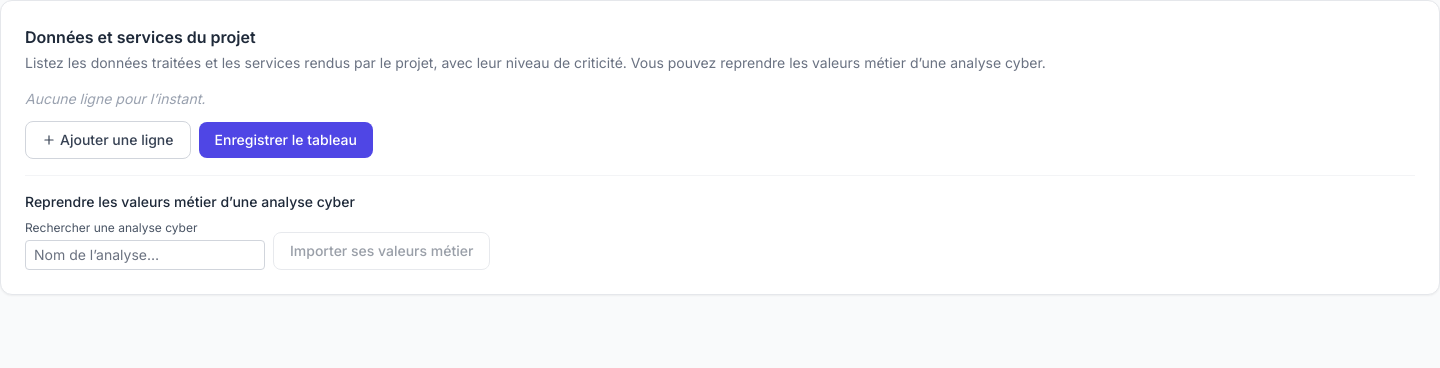
Test: ActifsProjet (phase 2) › saisit données et services avec leur criticité, enregistre
Expected: the heading "Données et services du projet" is shown, x1=25 y1=27 x2=256 y2=47
Step 1. Click the button "Ajouter une ligne" → (108, 140), box x1=25 y1=121 x2=190 y2=159
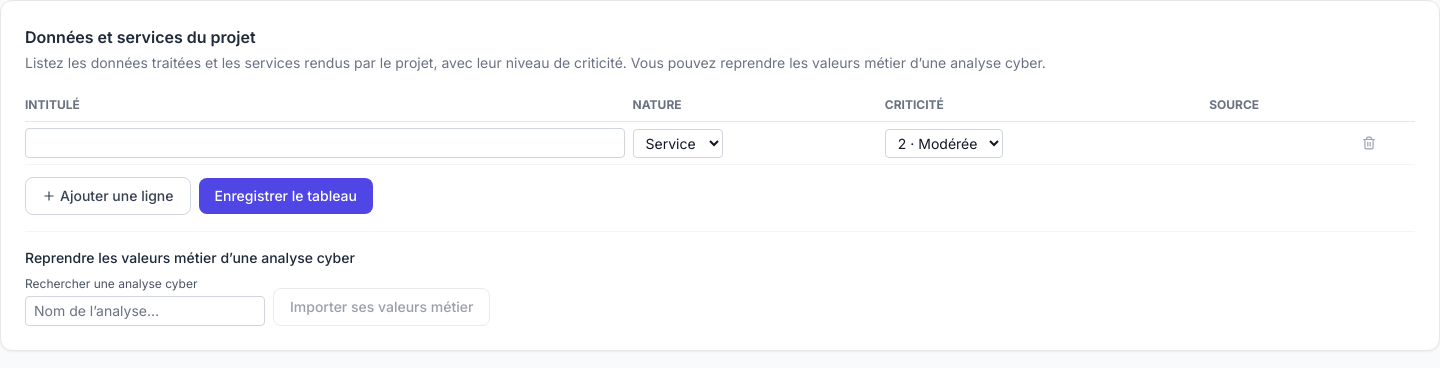
Step 2. Type "Dossiers clients" into the field named "Intitulé" → (325, 143), box x1=25 y1=128 x2=624 y2=158
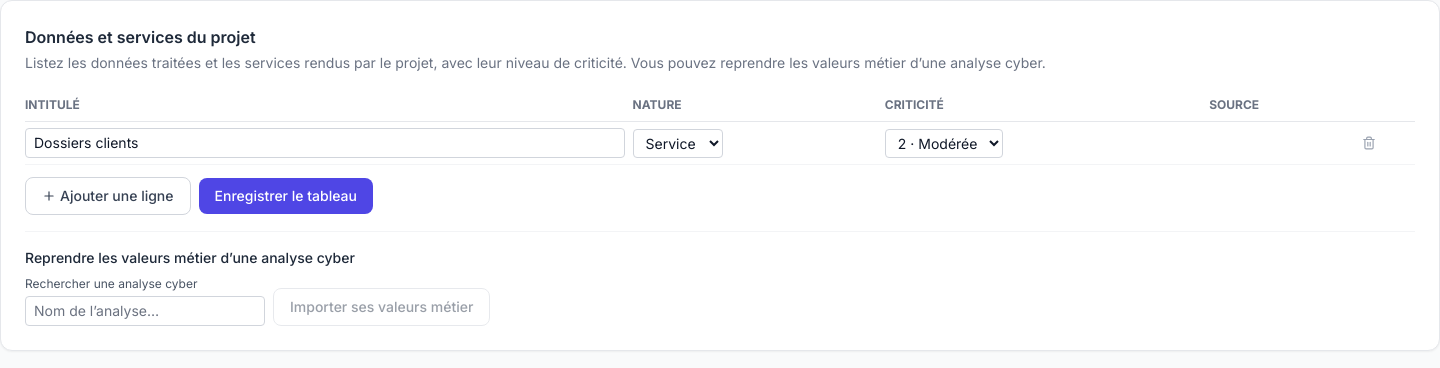
Step 3. Select "Donnée" in the dropdown named "Nature" → (678, 143), box x1=632 y1=128 x2=722 y2=158
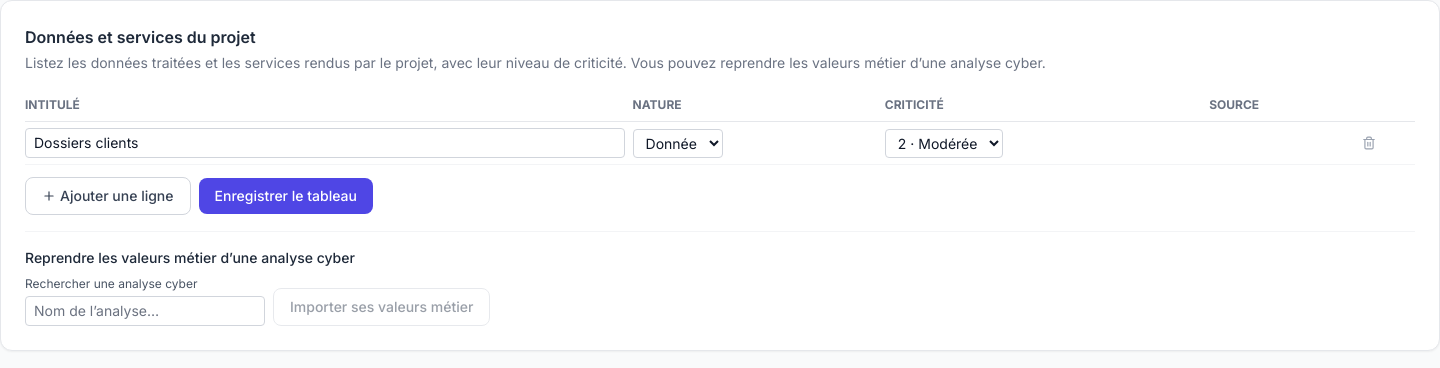
Step 4. Select "4 · Critique" in the dropdown named "Criticité" → (944, 143), box x1=885 y1=128 x2=1003 y2=158
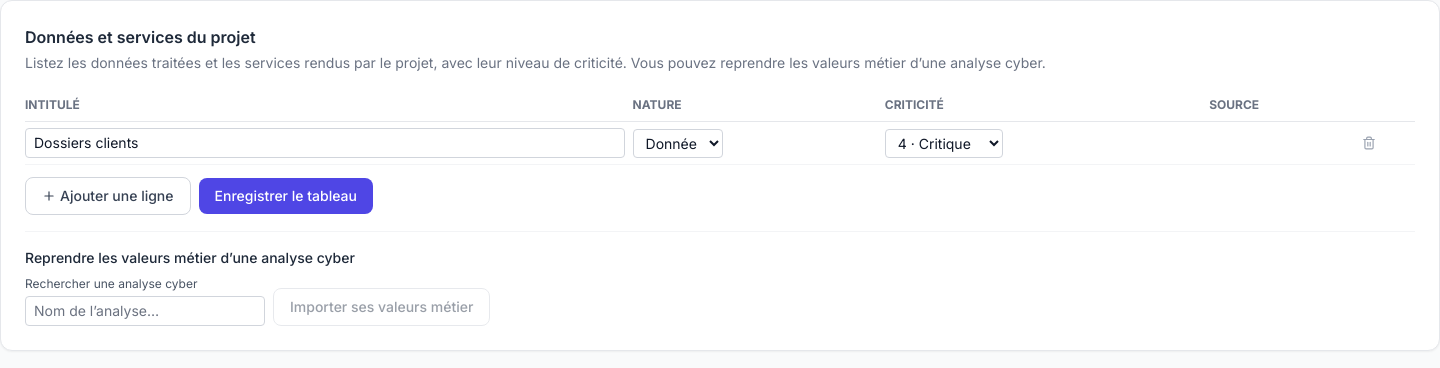
Step 5. Click the button "Enregistrer le tableau" → (286, 196), box x1=198 y1=178 x2=373 y2=214
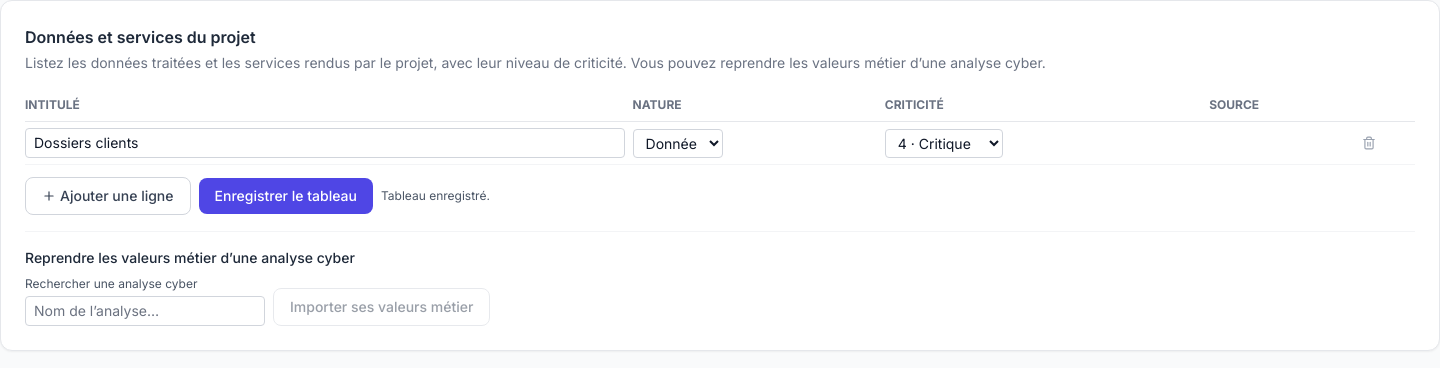
Expected: the text "Tableau enregistré." is shown, x1=381 y1=188 x2=490 y2=204
